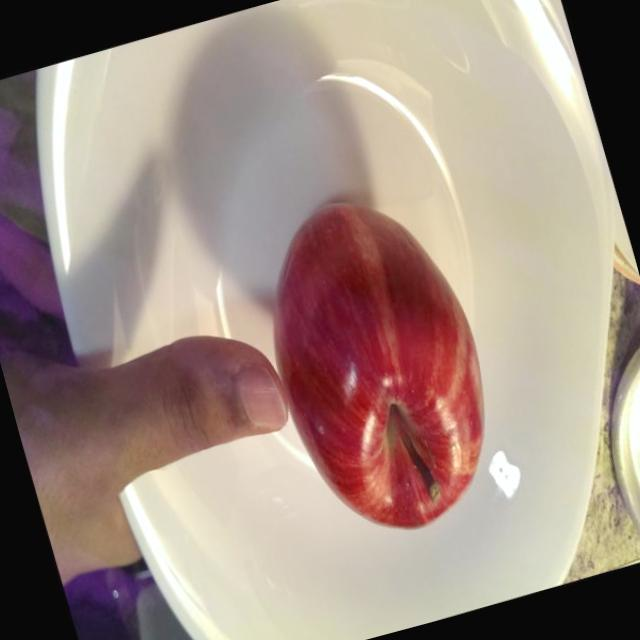Apple: (232, 163, 530, 563)
Finger: (131, 304, 301, 473)
